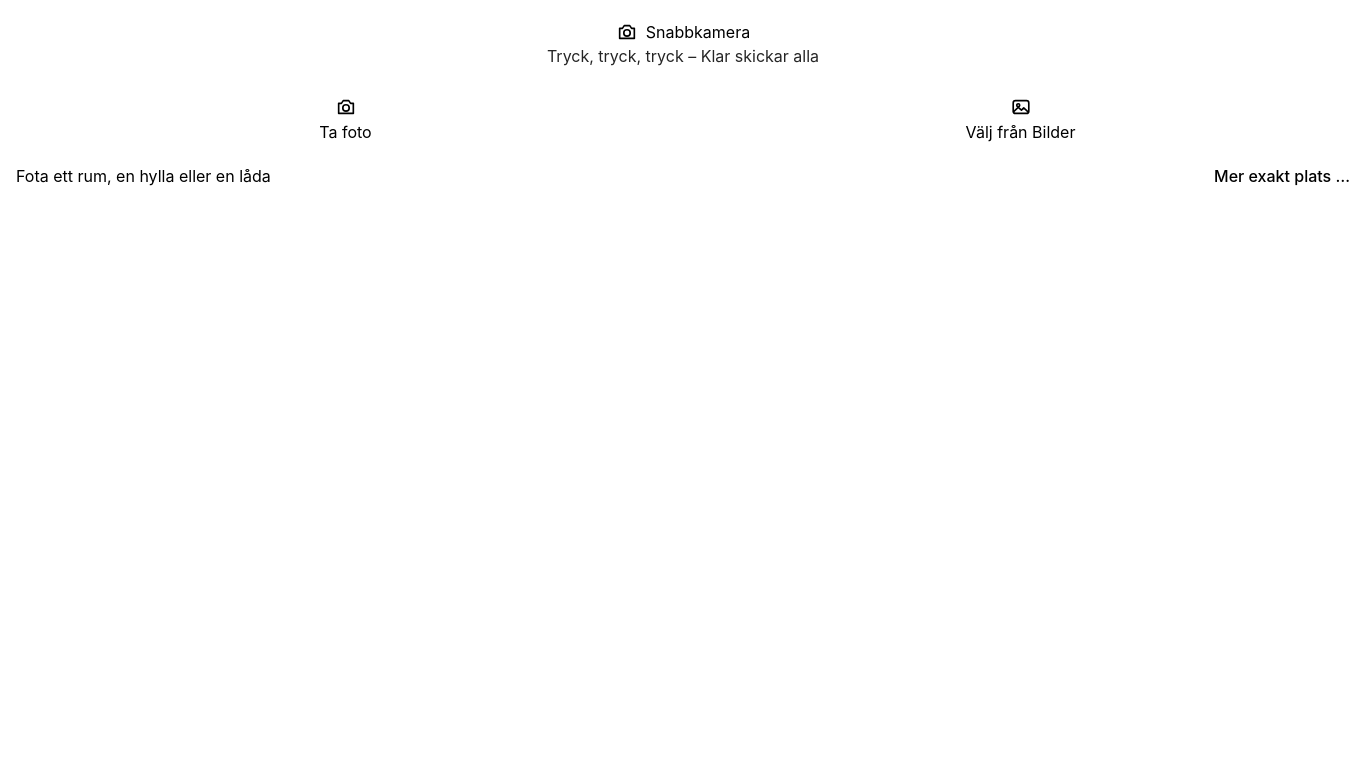
Test: Rummets sida › opens the sheet from Mer exakt plats
Click the button "Mer exakt plats …": (1282, 176) left=1210, top=164, right=1354, bottom=188
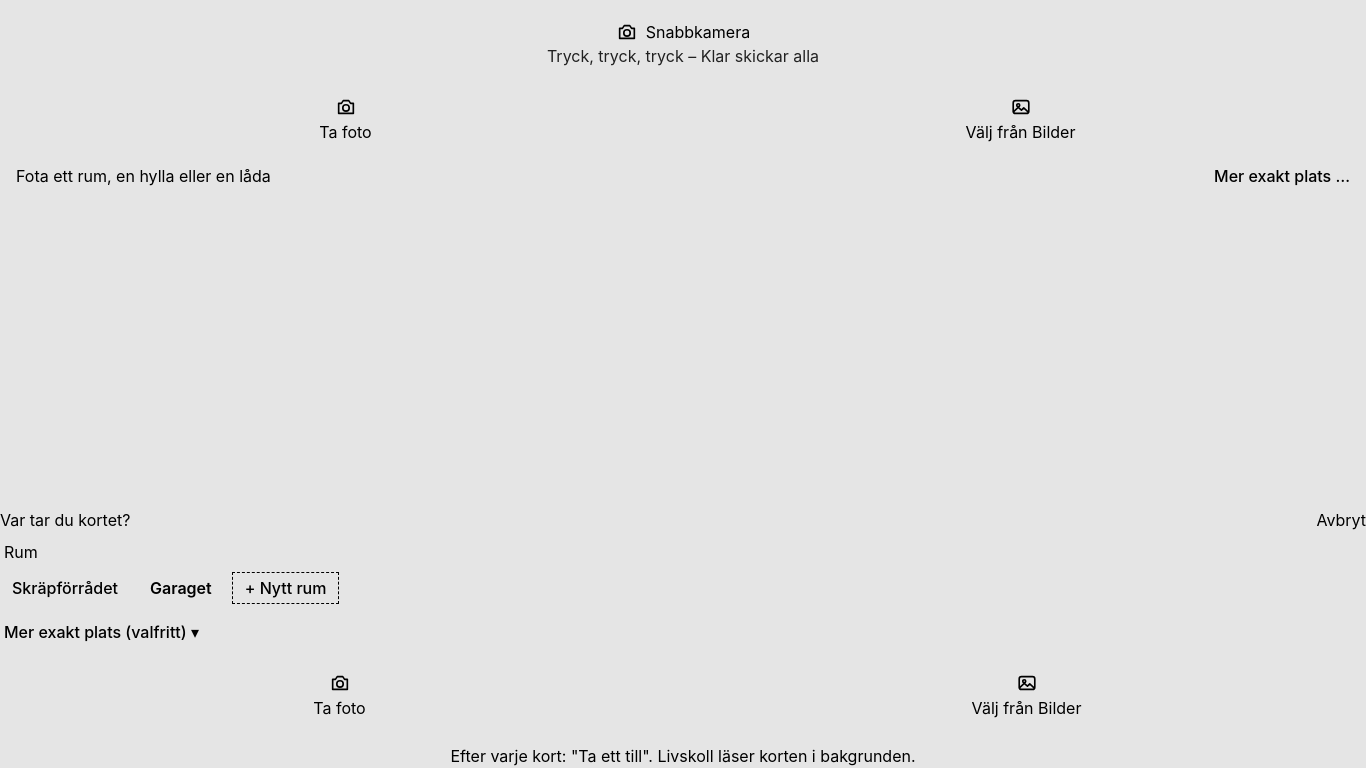
Now the dialog "Var tar du kortet?" is shown, box left=0, top=487, right=1365, bottom=767
Now the radio button labelled "Garaget" is checked, box left=138, top=572, right=224, bottom=604
